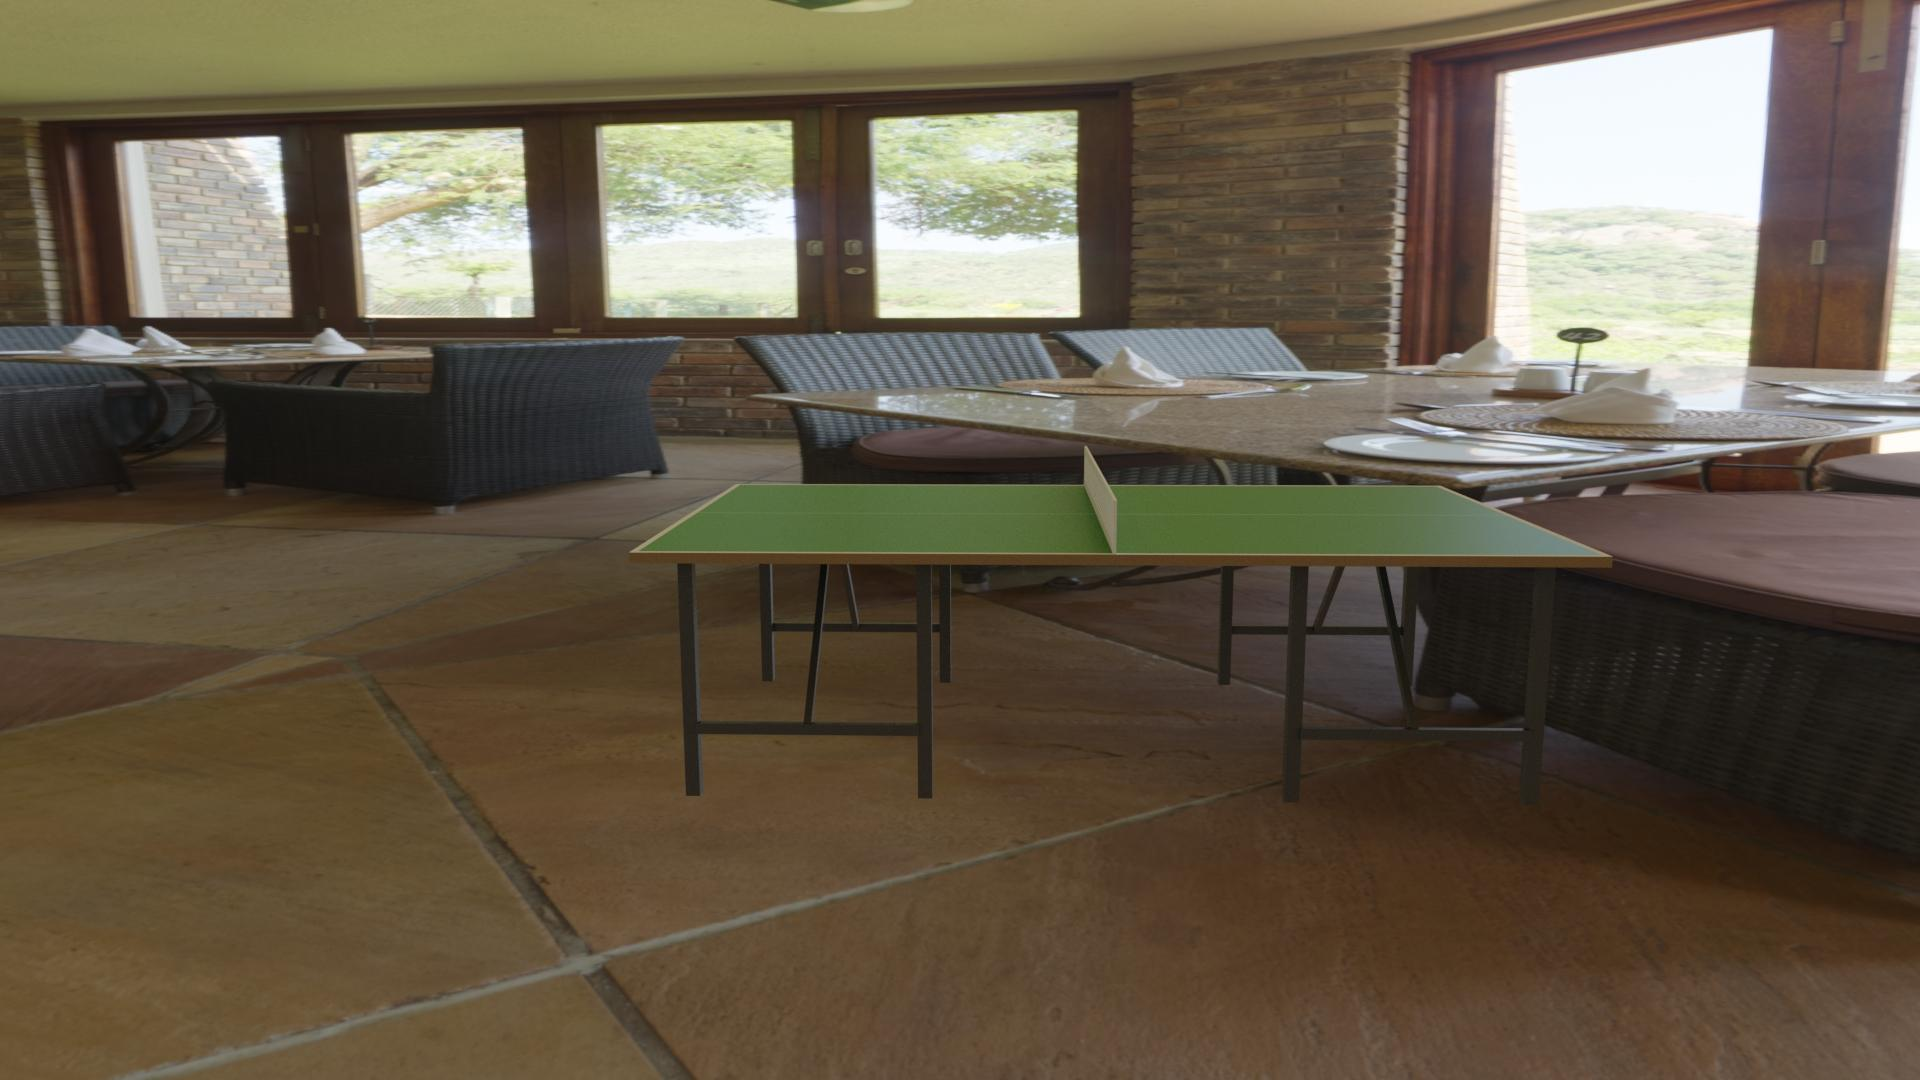table: (638, 485, 1602, 555)
